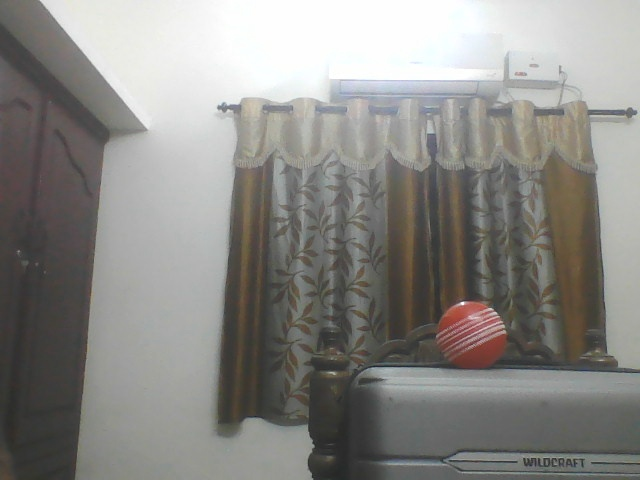cricket_ball: (431, 294, 516, 374)
